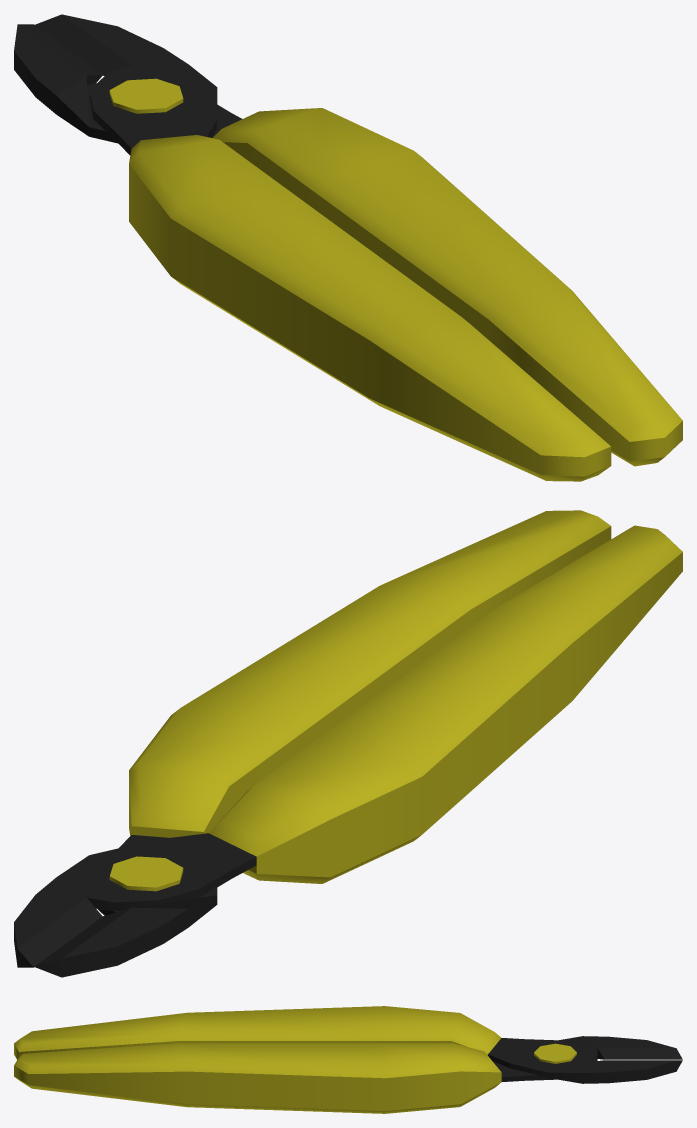
Rendered from support_cutting_tool.fbx.
The picture shows the model from 3 angles, top to bottom: view 1: azimuth 30°, elevation 25°; view 2: azimuth 150°, elevation 25°; view 3: azimuth 270°, elevation 25°; orthographic projection. The views are drawn at different scales.
Parts seen in each view (by area): view 1: support_cutting_tool_right_part, support_cutting_tool_left_part, support_cutting_tool_base; view 2: support_cutting_tool_right_part, support_cutting_tool_left_part, support_cutting_tool_base; view 3: support_cutting_tool_left_part, support_cutting_tool_right_part, support_cutting_tool_base.
Boxes of the visible parts, bbox=[...] form: support_cutting_tool_right_part: bbox=[35, 14, 611, 481]; support_cutting_tool_left_part: bbox=[14, 24, 682, 466]; support_cutting_tool_base: bbox=[109, 78, 183, 113]; support_cutting_tool_right_part: bbox=[14, 525, 682, 967]; support_cutting_tool_left_part: bbox=[34, 510, 611, 977]; support_cutting_tool_base: bbox=[109, 856, 183, 891]; support_cutting_tool_left_part: bbox=[14, 1036, 682, 1113]; support_cutting_tool_right_part: bbox=[14, 1006, 682, 1083]; support_cutting_tool_base: bbox=[534, 1043, 576, 1063].
Size of the model in its own units: 0.0345 by 0.1407 by 0.0101.
